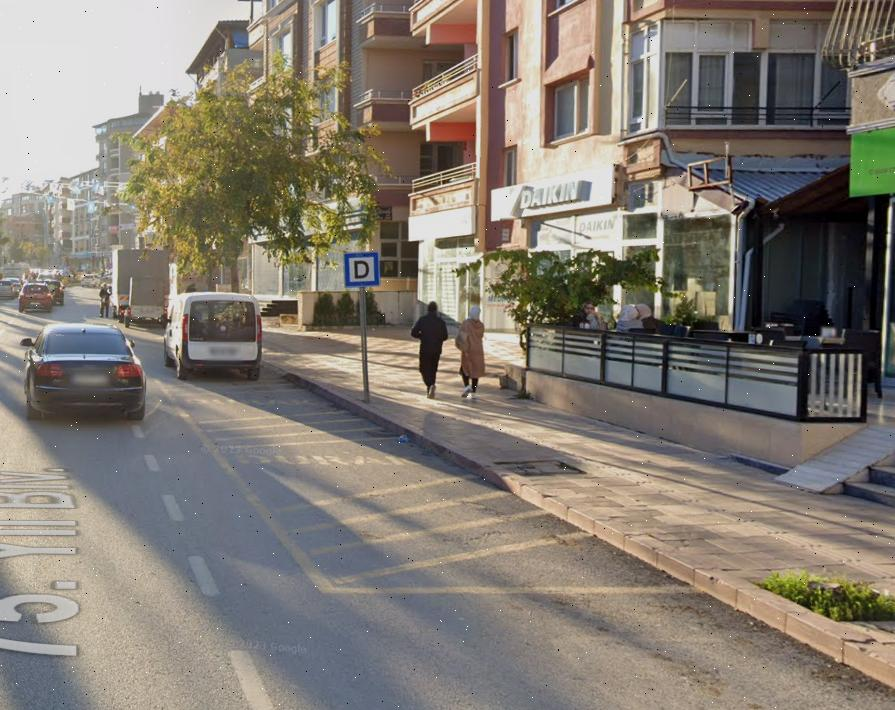station: (350, 255, 375, 283)
